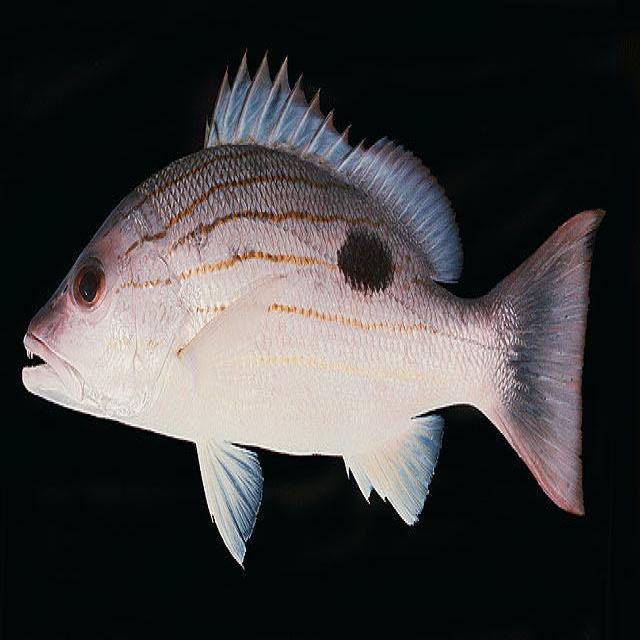ikan: (20, 45, 606, 569)
